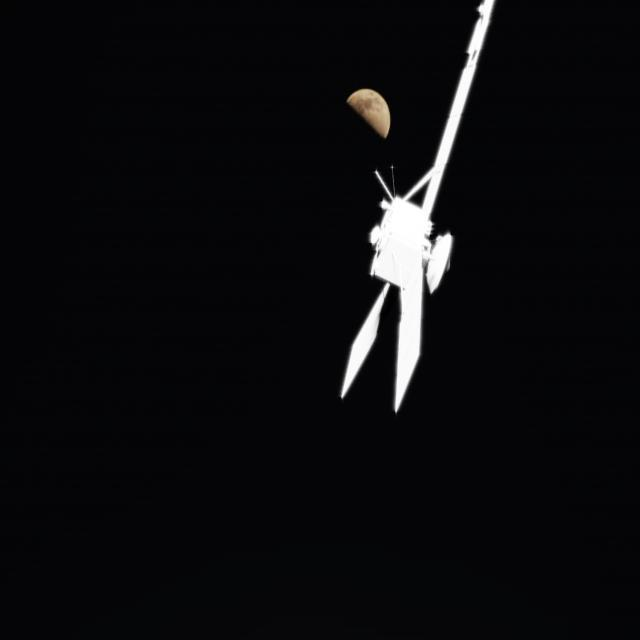satellite: (332, 0, 516, 427)
